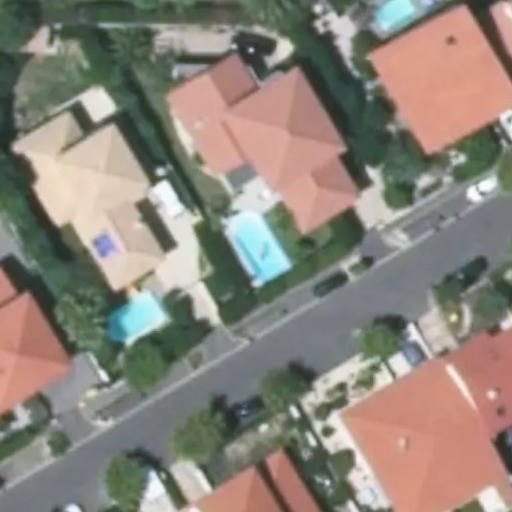pool: (224, 213, 290, 282), (108, 297, 163, 344), (373, 1, 423, 35)
